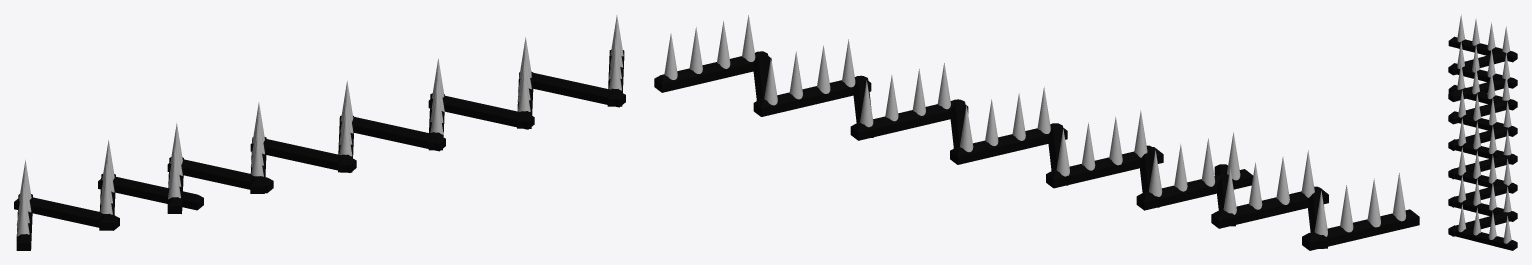
The model's file is Шипы.fbx.
3 renders of one model, left to right at view 1: azimuth 30°, elevation 25°; view 2: azimuth 150°, elevation 25°; view 3: azimuth 270°, elevation 25°, orthographic. The views are drawn at different scales.
Parts seen in each view (by area): view 1: Cube; view 2: Cube; view 3: Cube.
Boxes of the visible parts, x1,y1,x2,y2 form: Cube: (14,15,625,250); Cube: (654,15,1419,250); Cube: (1448,14,1517,250).
Bounding box in the file's own units: 1314 × 96 × 185.
